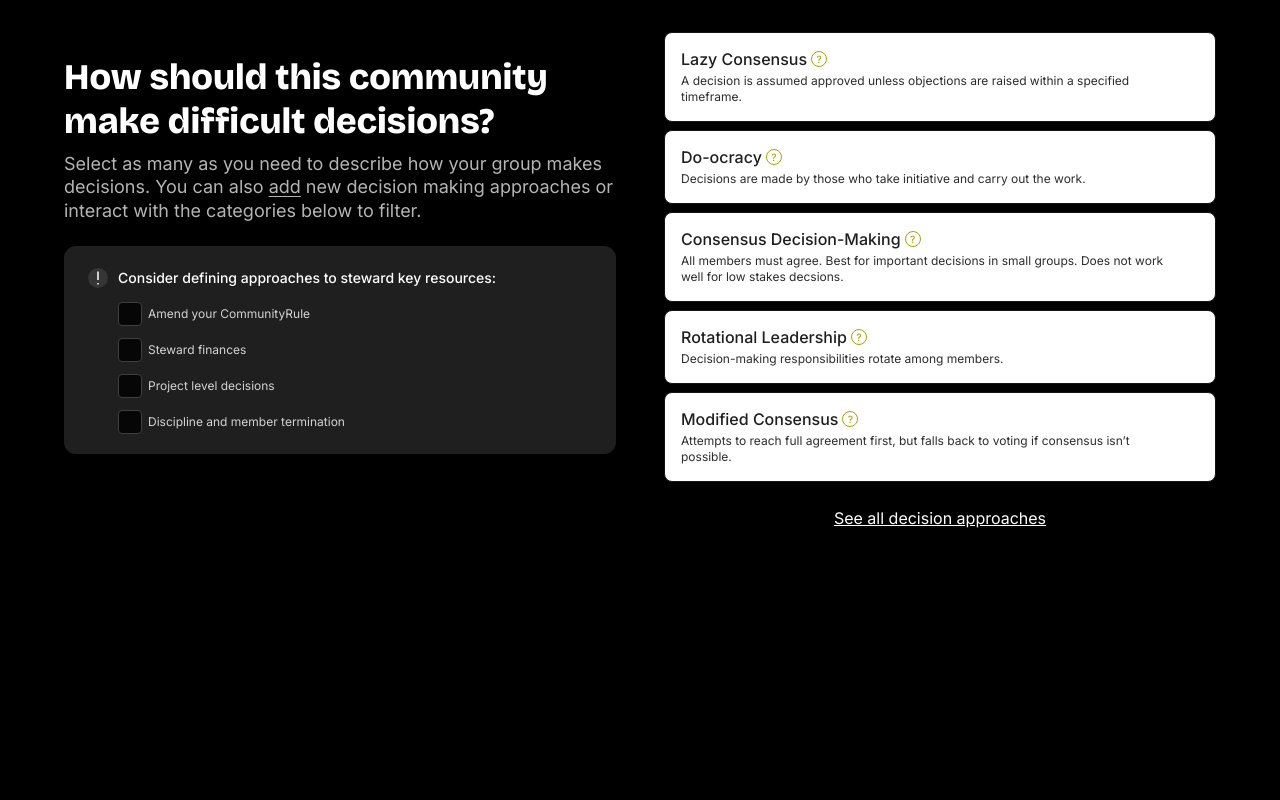
Create flow decision-approaches page › clicking a card opens the create modal and confirming selects it
Click the button with aria-label "Lazy Consensus: A decision is assumed approved": coordinates (940, 77) [664,32,1216,122]
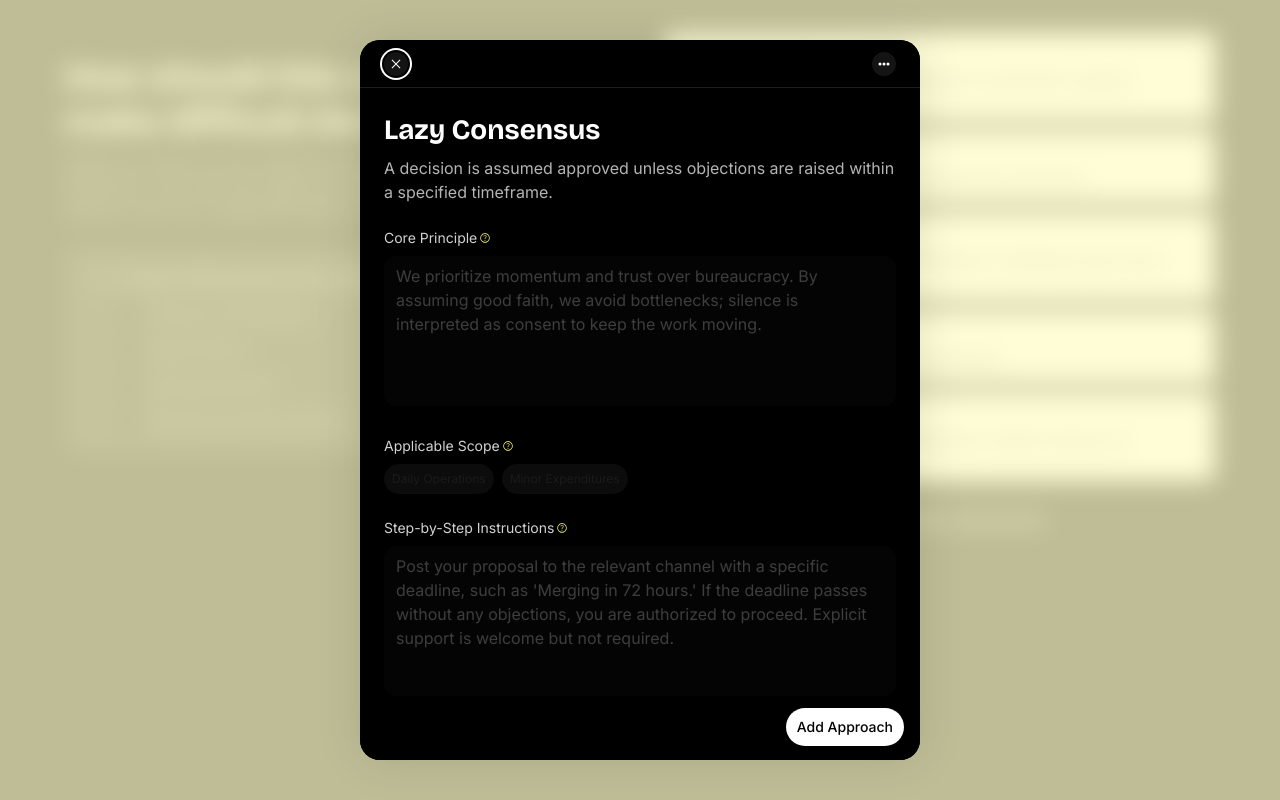
Result: the dialog is shown at [360,40,920,760]
Click the button "Add Approach": coordinates (845, 727) [786,708,904,746]
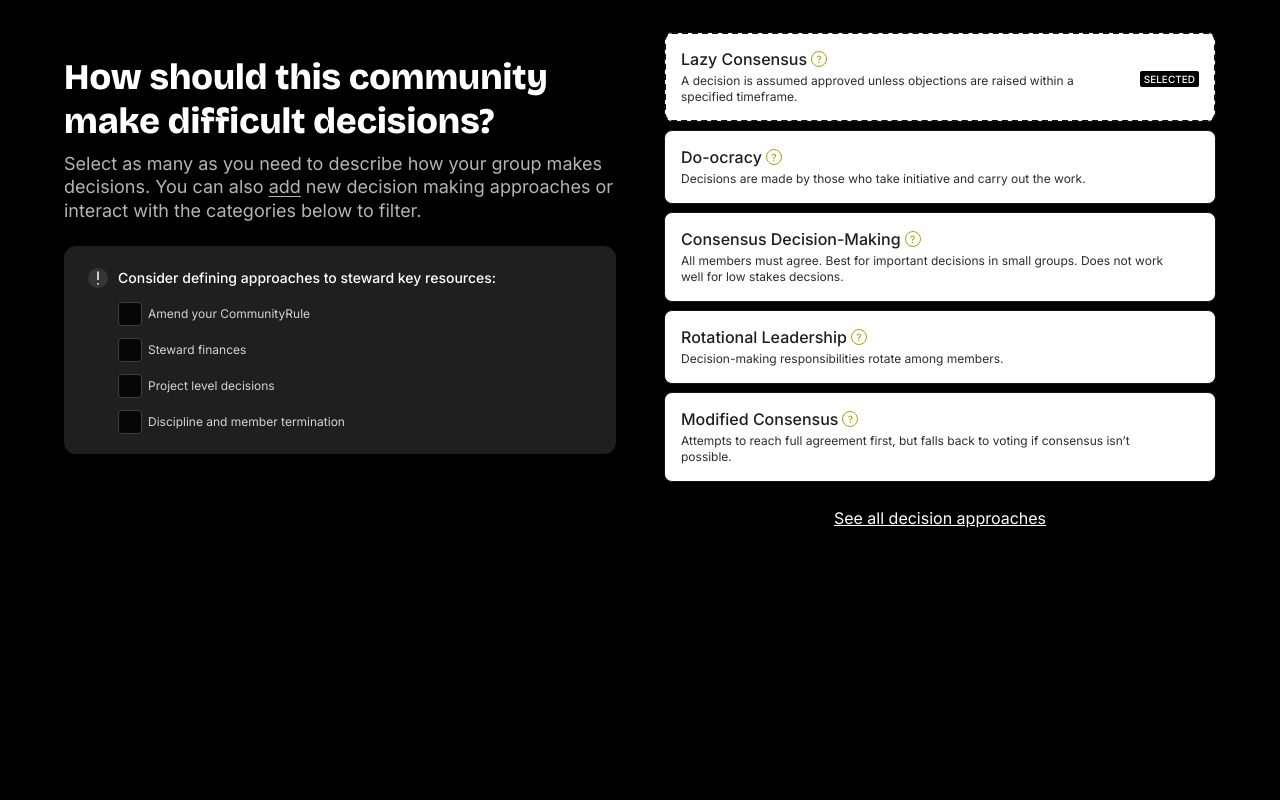
Result: the text "SELECTED" is shown at [1140,71,1199,87]
